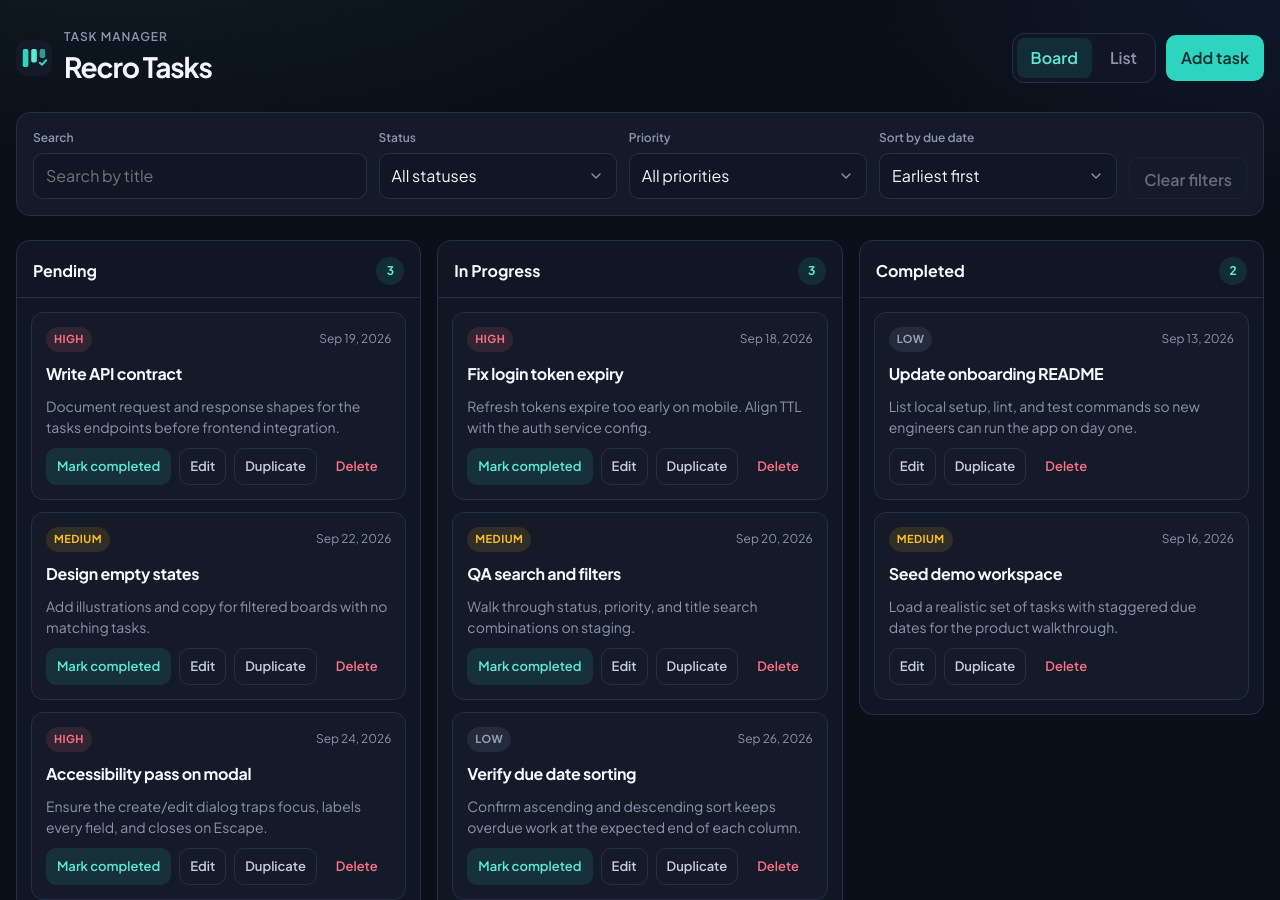
App › deletes a task and restores it from the toast
Check: the element "Write API contract" is shown, box [31,312,406,500]
Click the button "Delete" below "Write API contract" at [357, 466], box [325,448,389,485]
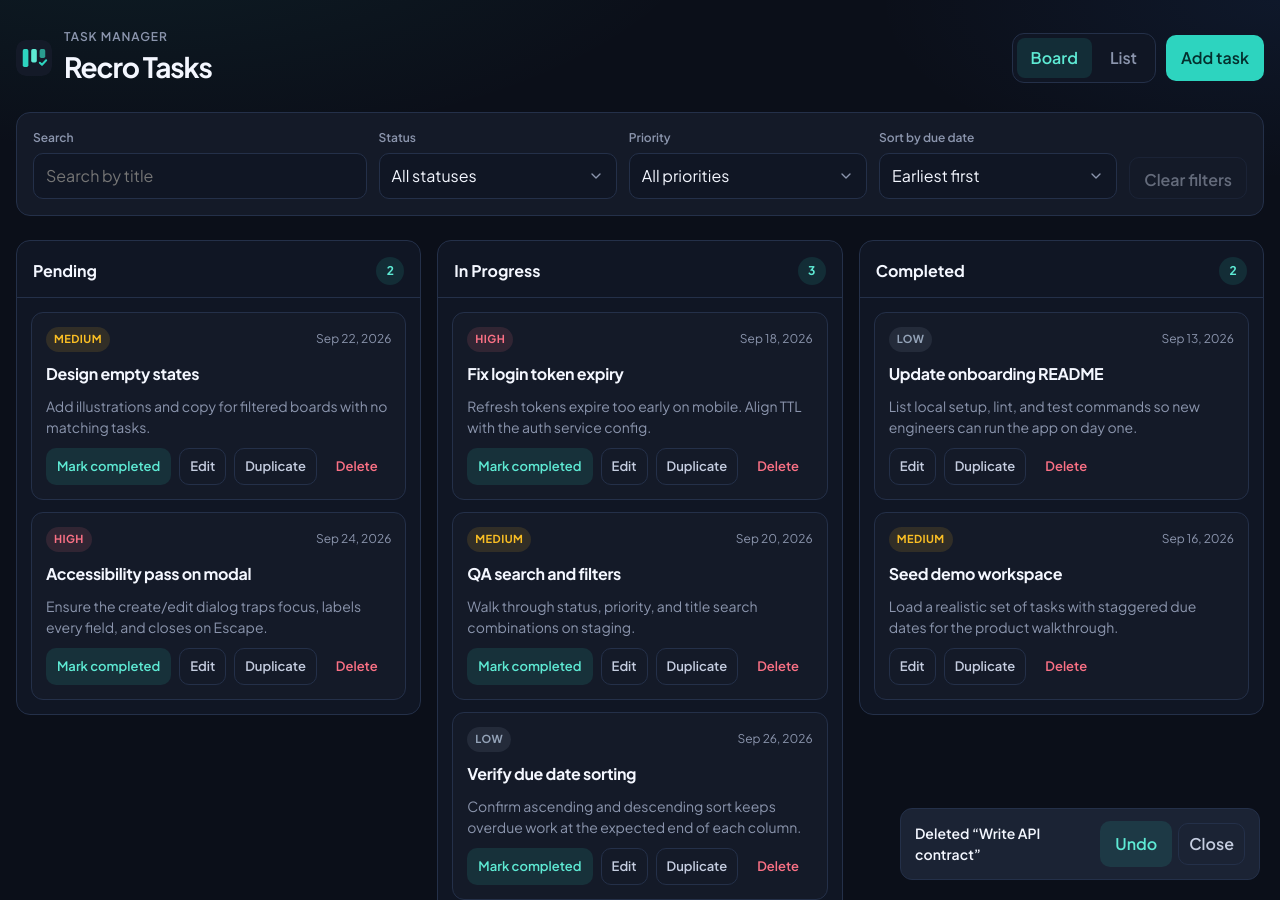
Check: the text "Deleted “Write API contract”" is shown, box [915,824,1040,863]
Click the button "Undo" at [1136, 844], box [1100,821,1172,867]
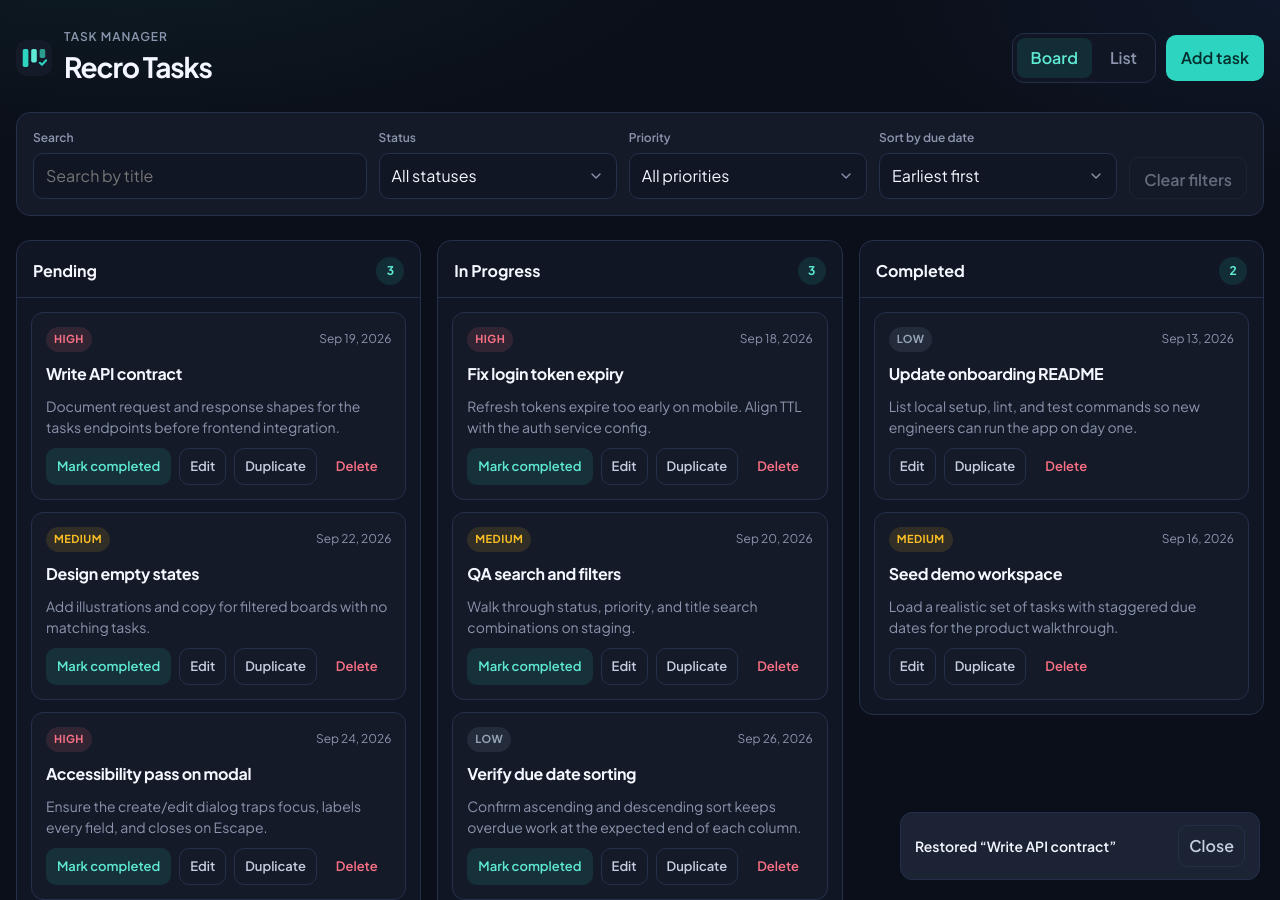
Check: the heading "Write API contract" is shown, box [46,362,182,384]
Check: the text "Restored “Write API contract”" is shown, box [915,836,1116,856]
